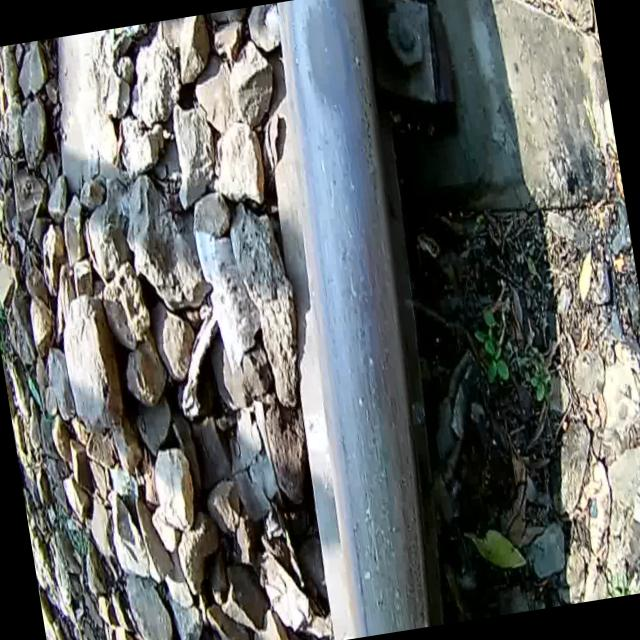Squats: (256, 0, 407, 150)
